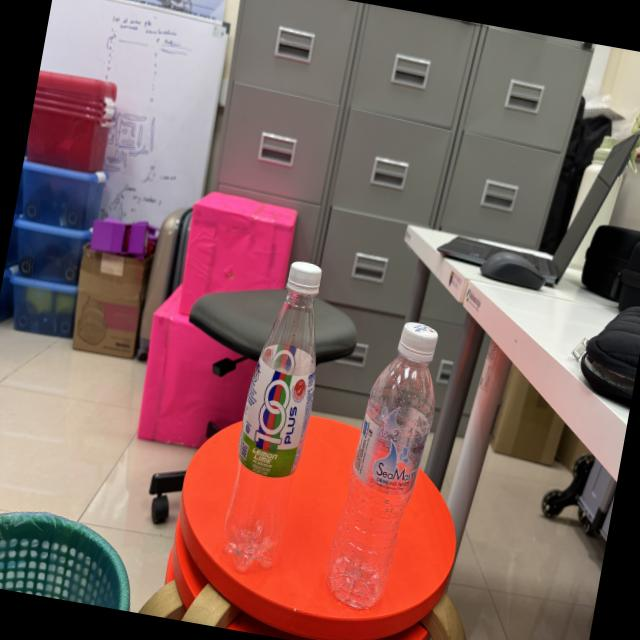plastic_bottle: (312, 295, 457, 634), (210, 247, 352, 590)
